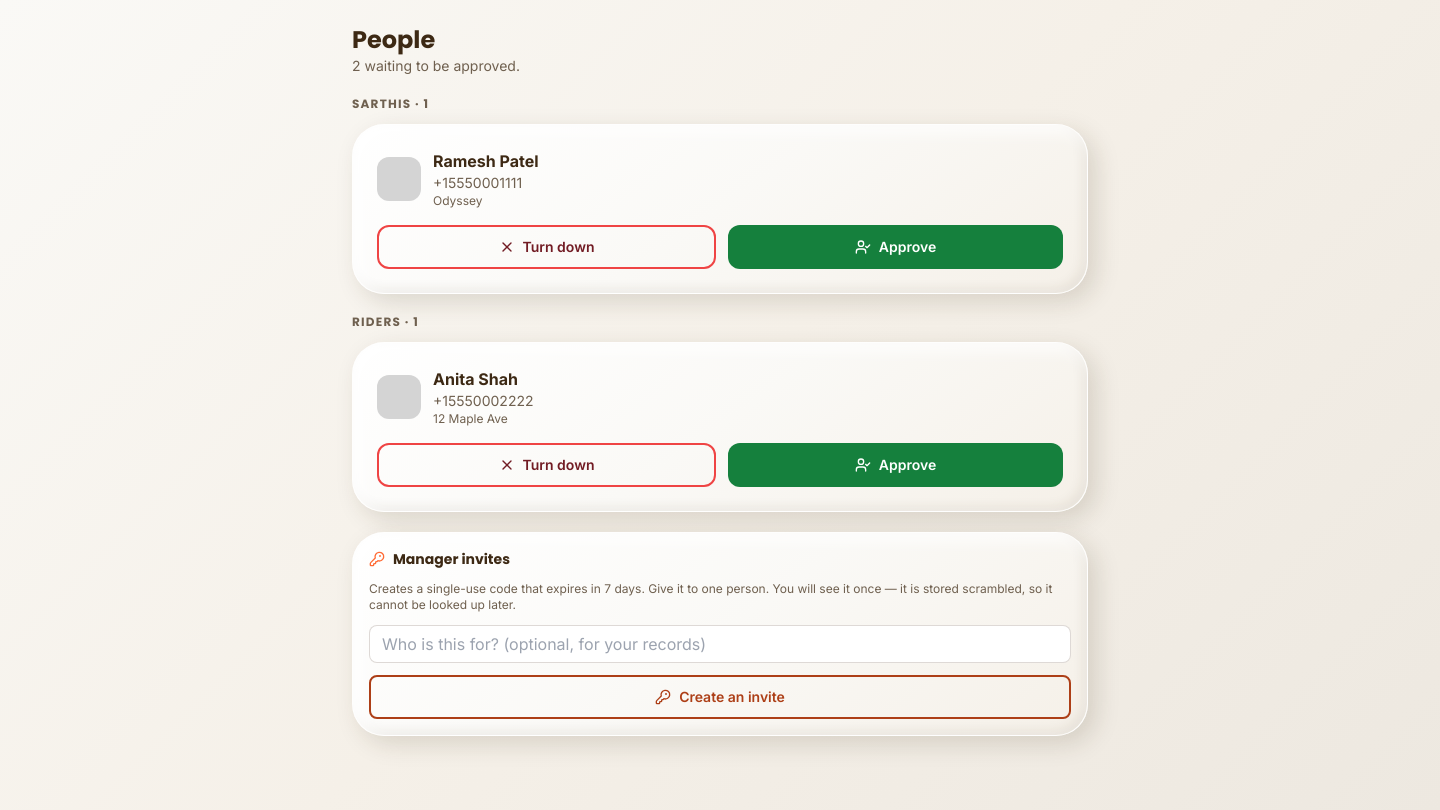
Test: ManagerPeople — turning someone down › asks first
Click the button "Turn down" below "Odyssey". click: [546, 247]
box: [377,225,716,269]
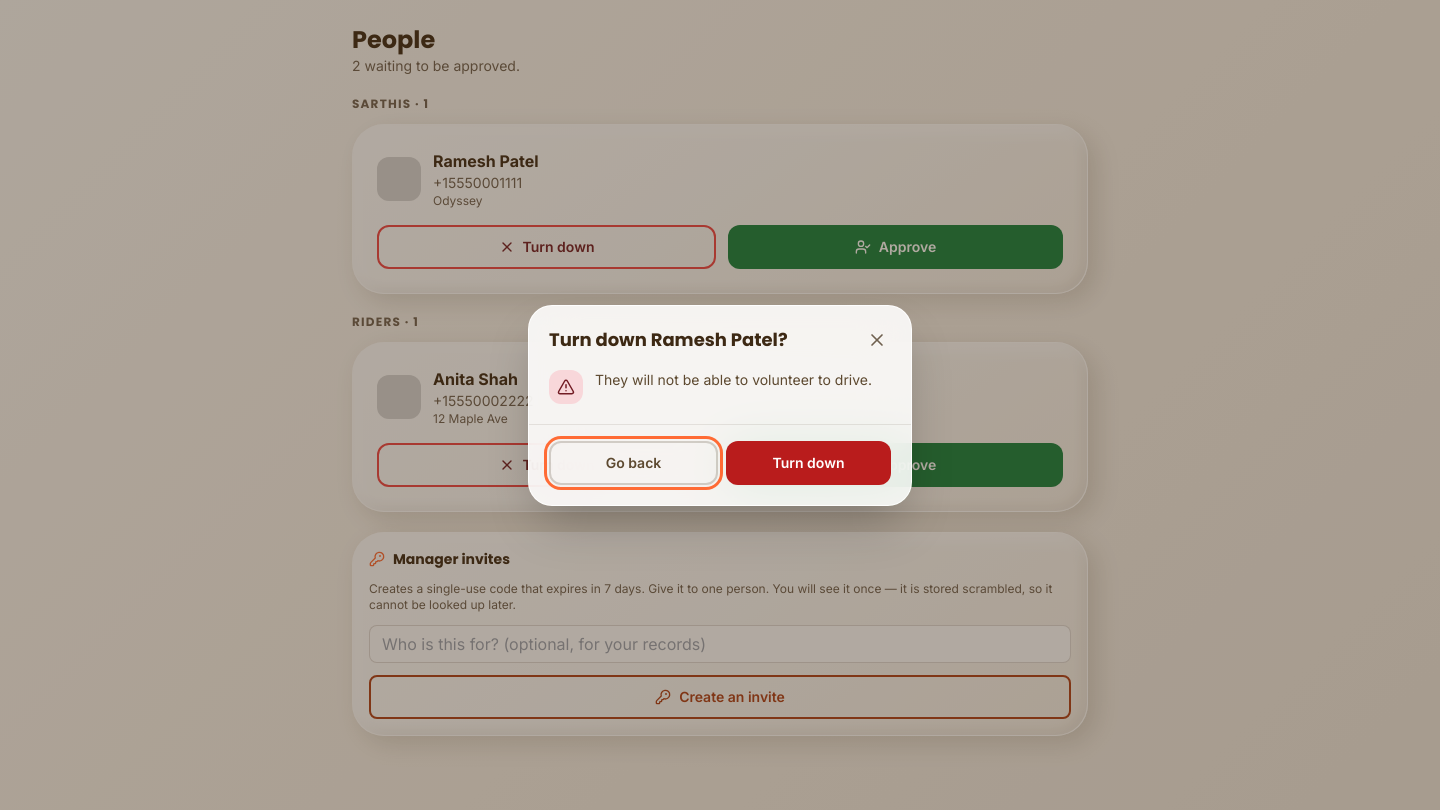
Expected: the dialog "Turn down Ramesh Patel" is shown, [528,304,912,506]
